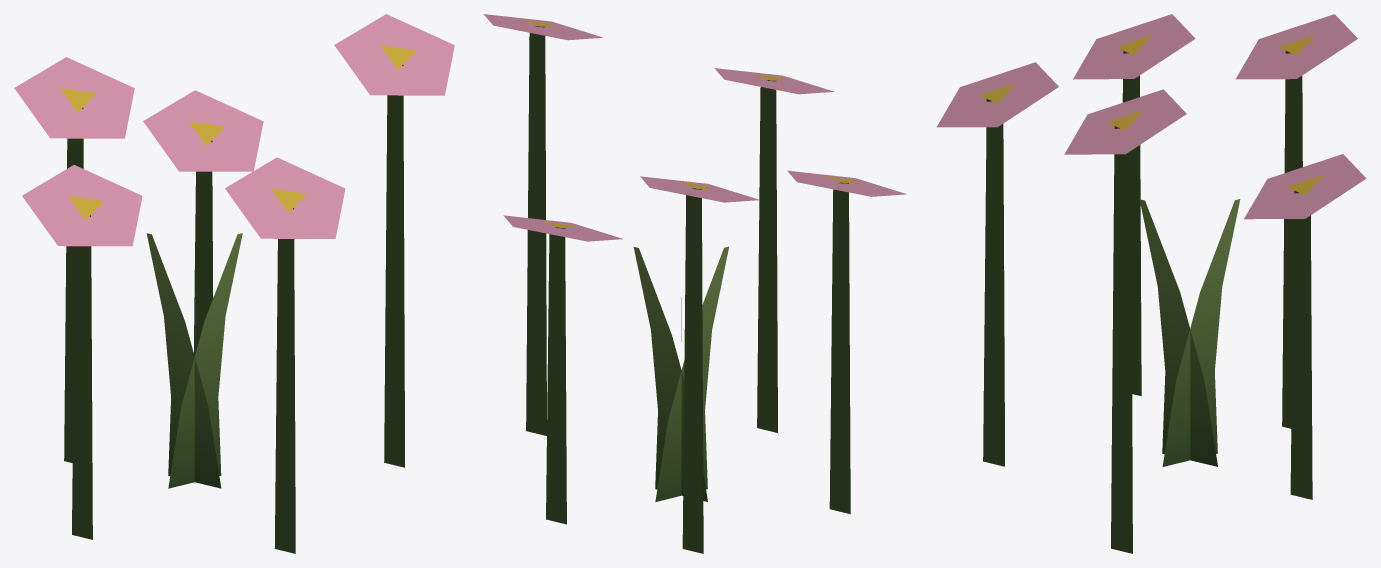
Rendered from flower_f3a6c4.glb.
3 renders of one model, left to right at view 1: azimuth 30°, elevation 25°; view 2: azimuth 150°, elevation 25°; view 3: azimuth 270°, elevation 25°, orthographic. The views are drawn at different scales.
Parts seen in each view (by area): view 1: part_0; view 2: part_0; view 3: part_0.
Boxes of the visible parts, left/top/right/bottom form: part_0: left=14, top=14, right=454, bottom=553; part_0: left=483, top=14, right=906, bottom=553; part_0: left=937, top=14, right=1366, bottom=553.
Size of the model in its own units: 0.543 by 0.5344 by 0.4697.
